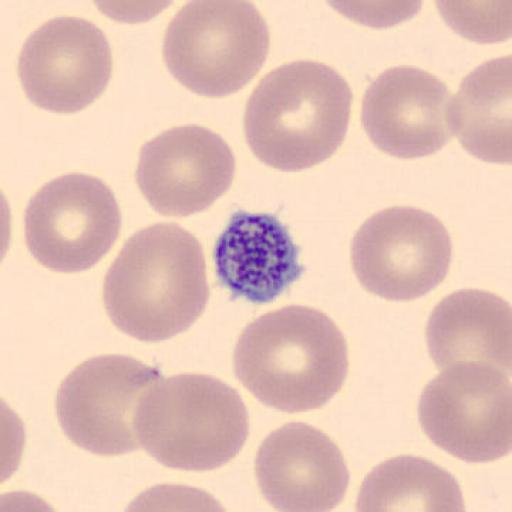Platelet: (210, 207, 308, 306)
RBC: (100, 219, 211, 345), (230, 302, 352, 415), (242, 57, 354, 174), (131, 369, 252, 474), (53, 352, 166, 459), (160, 1, 272, 99), (348, 202, 454, 304), (22, 170, 123, 276), (133, 121, 237, 220), (14, 14, 114, 116), (415, 360, 511, 466), (359, 62, 452, 162), (424, 286, 512, 390), (253, 418, 351, 511), (445, 54, 512, 166), (354, 453, 468, 512), (1, 451, 76, 512), (113, 479, 239, 512), (432, 0, 512, 45), (316, 0, 428, 31), (0, 394, 27, 489), (88, 0, 187, 25), (1, 486, 71, 512), (0, 186, 13, 270)
